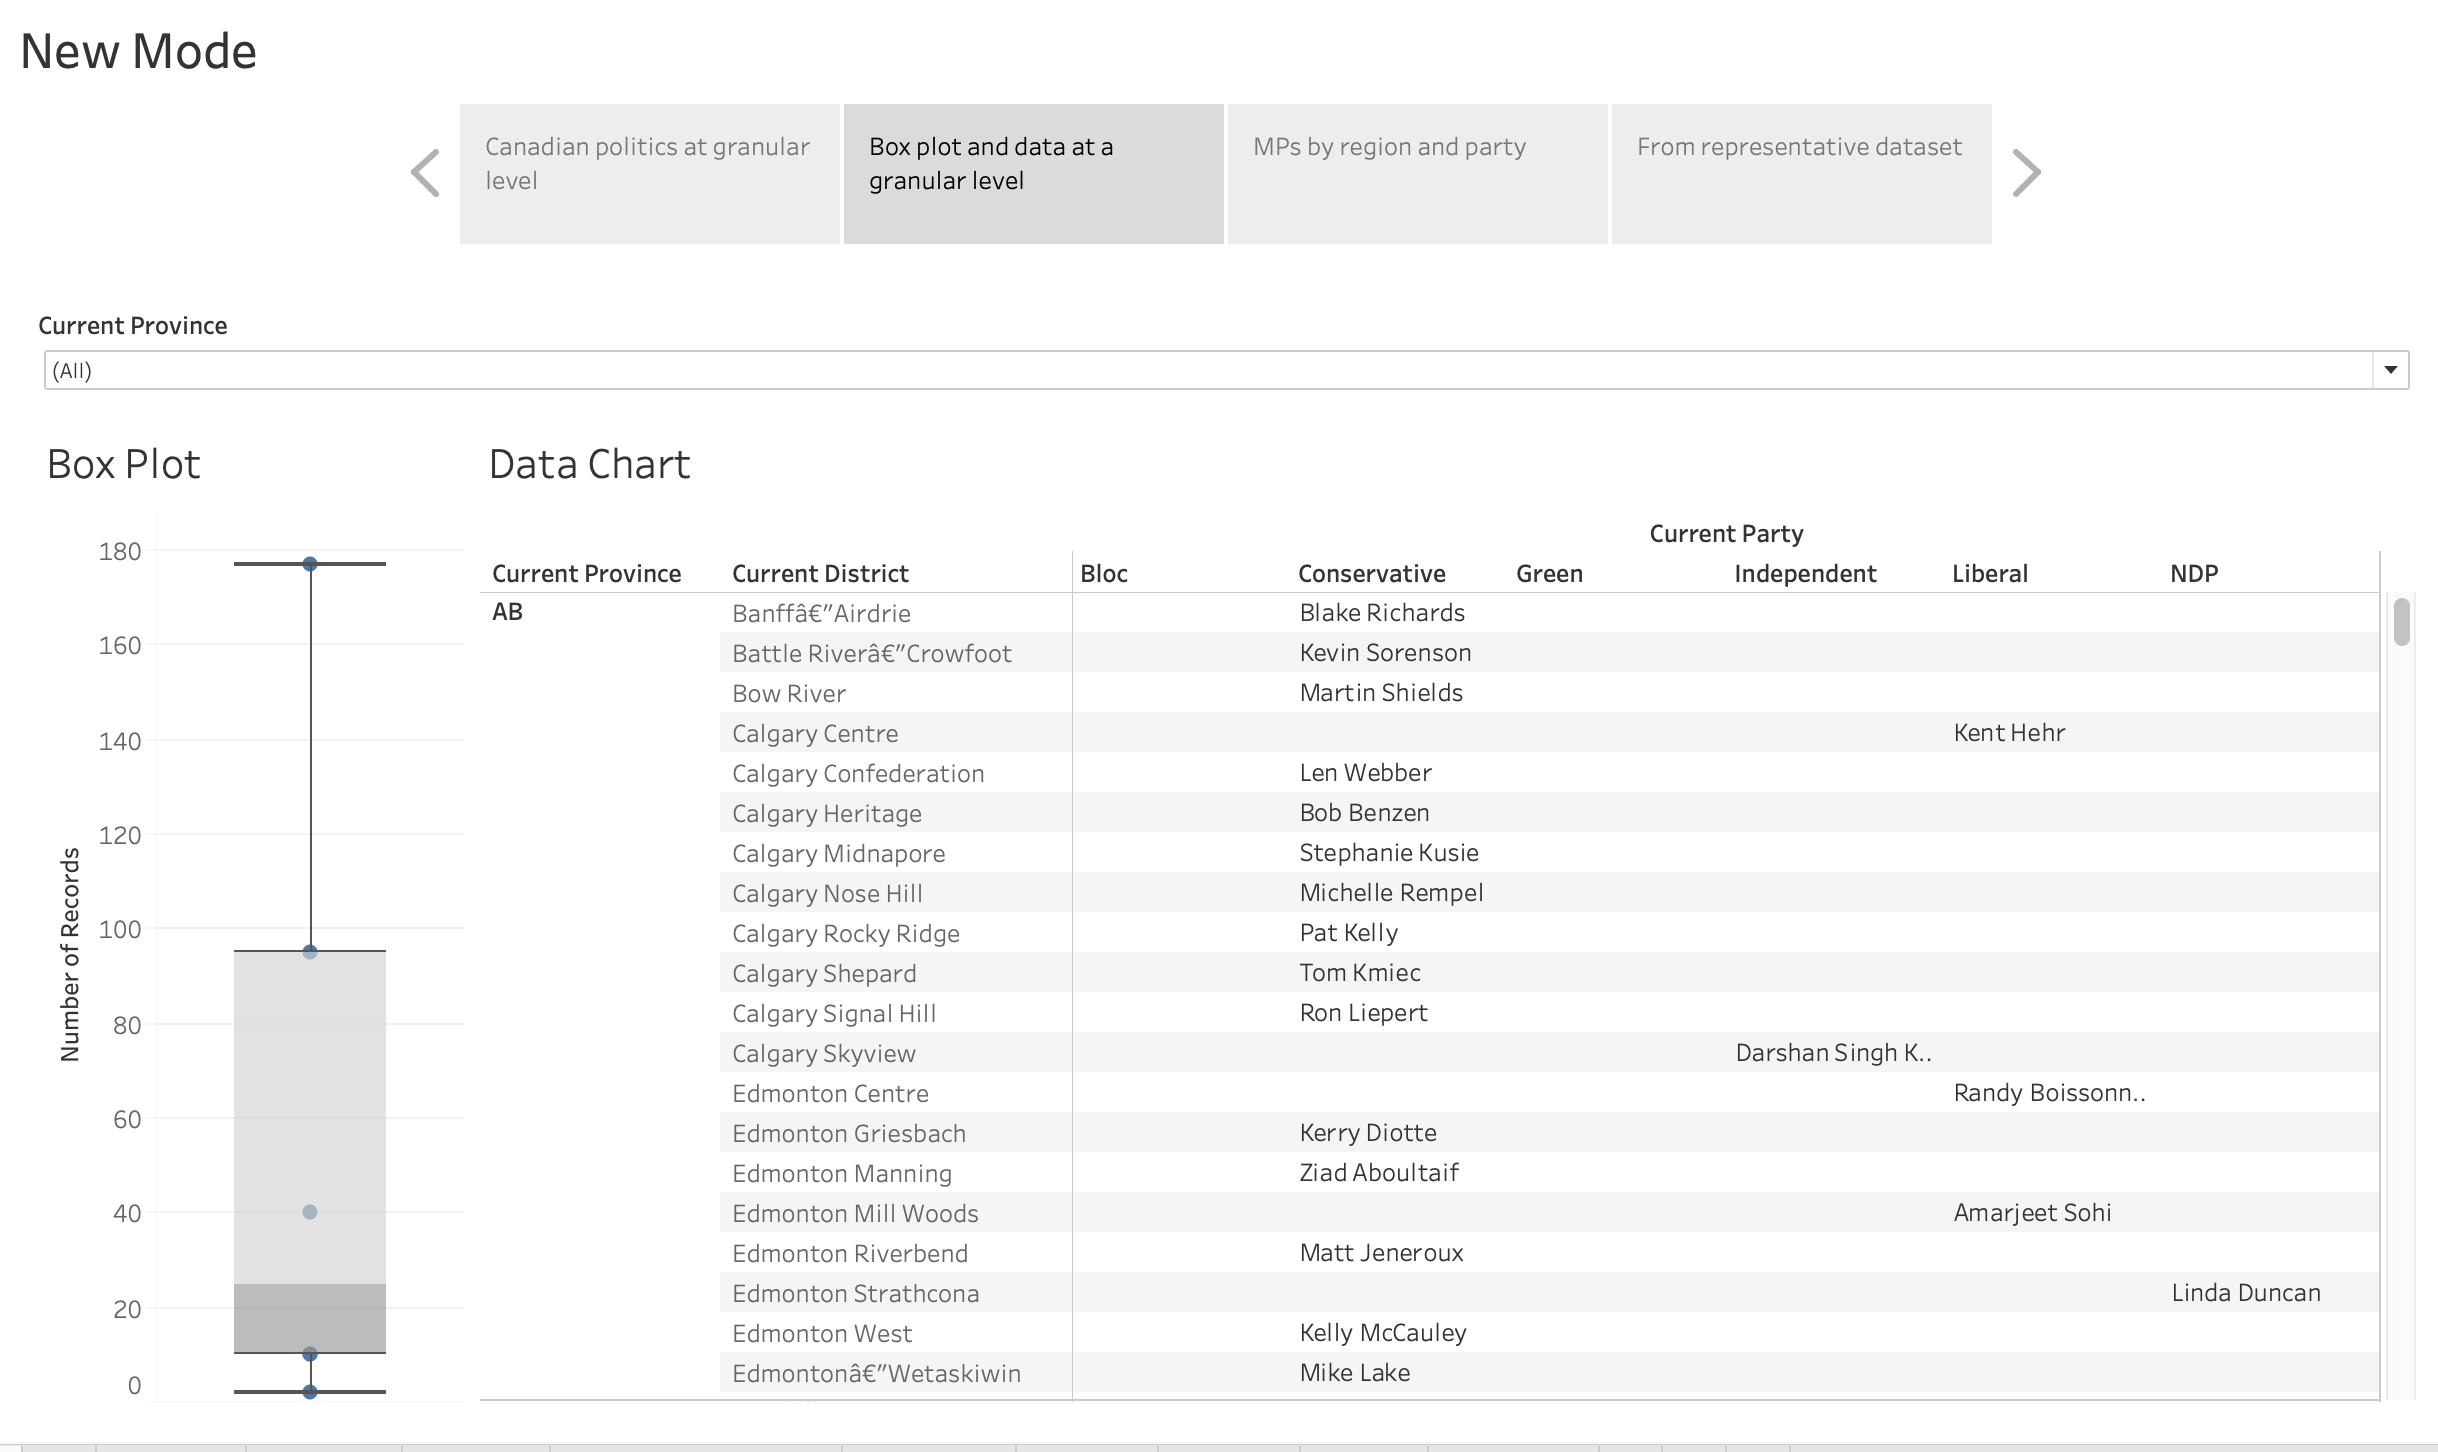

What the dashboard file says about the page in this screenshot:
{"tool":"tableau","page":{"name":"Box plot","canvas":[1000,1000],"units":"permille","ordinal":0},"visuals":[{"type":"filter","title":"Data Chart","param":"[federated.1paly8d1tybn1u1fjv5w71yp1g10].[none:current_riding.province:nk]","box":[6.5,11.1,987,72.1]},{"type":"worksheet","title":"Box ","mark":"Circle","rows":["Number of Records"],"box":[6.5,115.3,181.8,873.6]},{"type":"worksheet","title":"Data Chart","mark":"Automatic","rows":["current_riding.province","current_riding.name.en"],"cols":["current_party.short_name.en"],"box":[188.3,115.3,805.1,873.6]}]}

Visuals, with their boxes on the dashboard's canvas, which has no fixed pixel size, in thousandths of its width and height (x1, y1, x2, y2). These are canvas units, not pixel positions in the 2438x1452 screenshot, which may show the page scaled, cropped or inside an application window:
"Data Chart" filter: <bbox>6, 11, 994, 83</bbox>
"Box " worksheet (Circle marks): <bbox>6, 115, 188, 989</bbox>
"Data Chart" worksheet: <bbox>188, 115, 993, 989</bbox>
